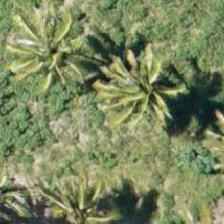coconut_tree: (103, 38, 193, 128), (20, 11, 110, 101), (38, 155, 128, 223)
